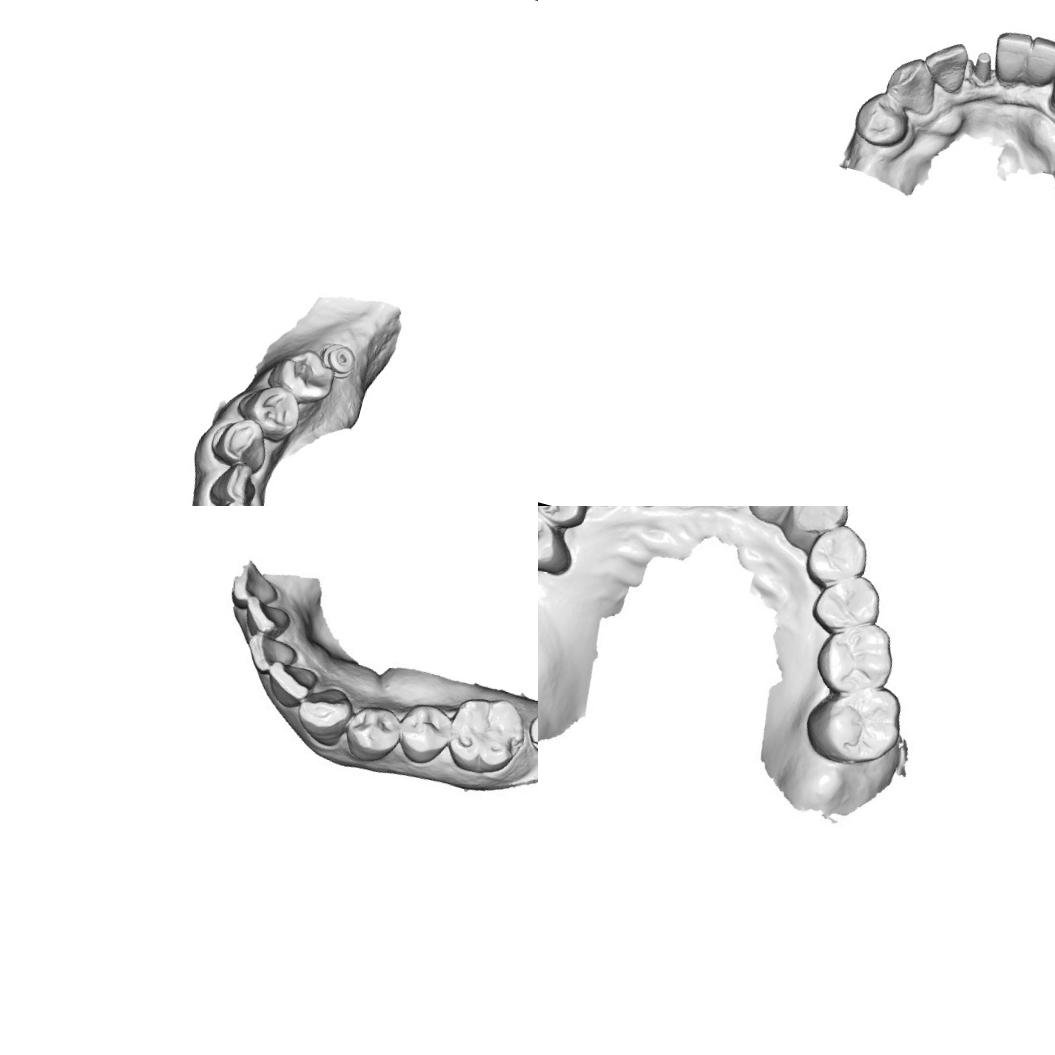abutment: (964, 45, 998, 86)
canine: (205, 409, 274, 475), (880, 50, 946, 119), (292, 682, 358, 746), (785, 506, 855, 539)
implant: (312, 336, 361, 382), (524, 707, 538, 759)
incisor: (914, 32, 974, 97), (984, 22, 1036, 86), (236, 589, 298, 640), (205, 456, 263, 506), (263, 660, 314, 708), (244, 632, 296, 675), (1021, 28, 1055, 86), (205, 493, 262, 506)
molar: (799, 669, 911, 776), (808, 608, 907, 706), (439, 690, 522, 780)
premolar: (798, 514, 876, 596), (806, 562, 886, 640), (229, 375, 307, 447), (263, 340, 340, 410), (848, 86, 916, 152), (396, 701, 456, 766), (345, 701, 405, 763), (538, 506, 569, 576), (538, 506, 596, 530)
